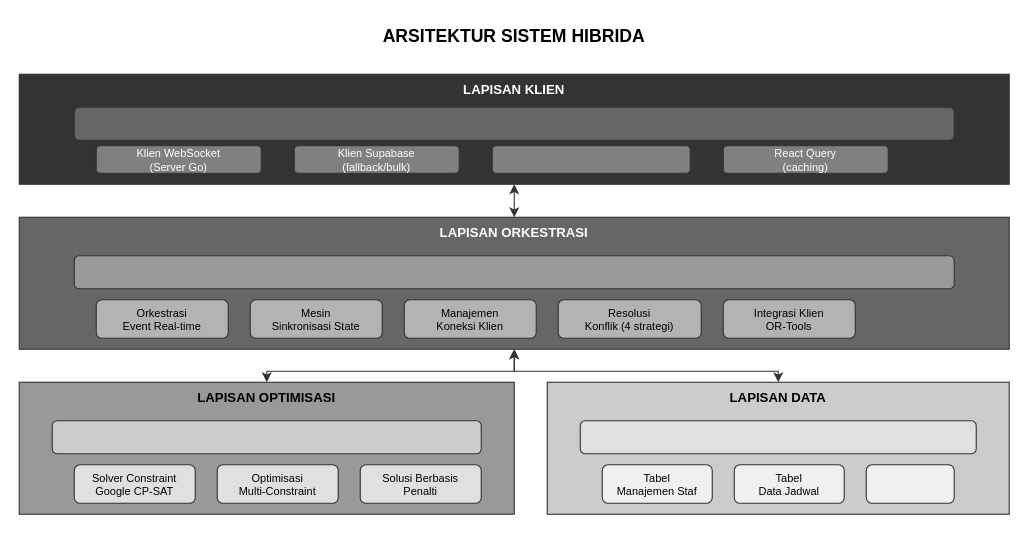
This 1029x534 diagram has some shape labels left out. Here are the shapes that lost their labels. From the top down, the centre of each, then its label:
At point (513, 123): "Aplikasi React".
At point (590, 159): "Manajemen State (sumber kebenaran tunggal)".
At point (513, 272): "Server WebSocket Go (Port 8080)".
At point (266, 437): "Layanan Python OR-Tools (Port 5000)".
At point (777, 437): "Supabase PostgreSQL".
At point (909, 483): "Log Perubahan".
